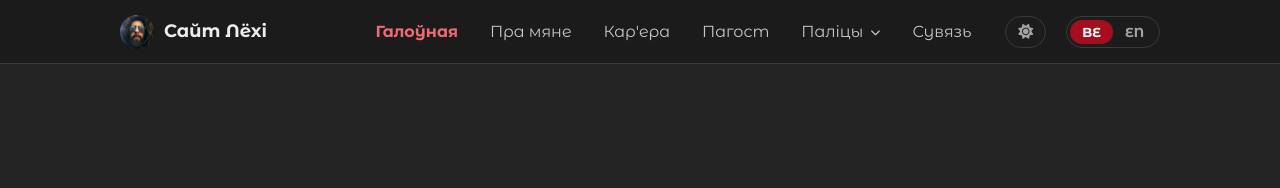
Test: «Паліцы» in the nav › closes when the mouse leaves it
Click the button "Паліцы".
click(841, 32)  # box [787,14,894,49]
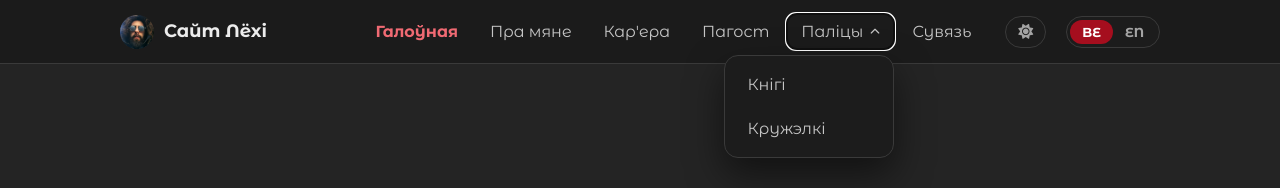
Check: the button "Паліцы" is expanded
Move the pointer off the element showing "Паліцы Кнігі Кружэлкі", box [787,14,894,49]
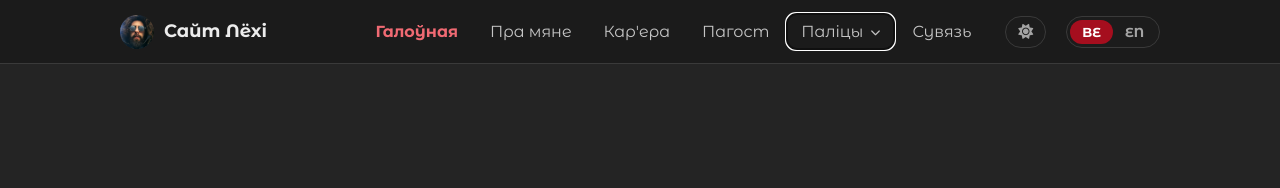
Check: the button "Паліцы" is collapsed, box [787,14,894,49]
